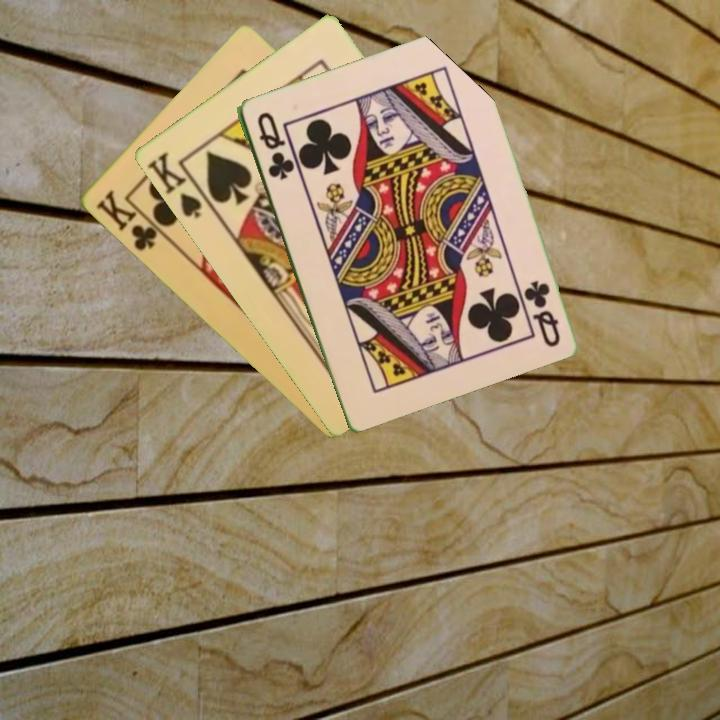Kc: (92, 186, 169, 254)
Ks: (143, 148, 205, 221)
Qc: (253, 108, 296, 183), (521, 276, 563, 350)
